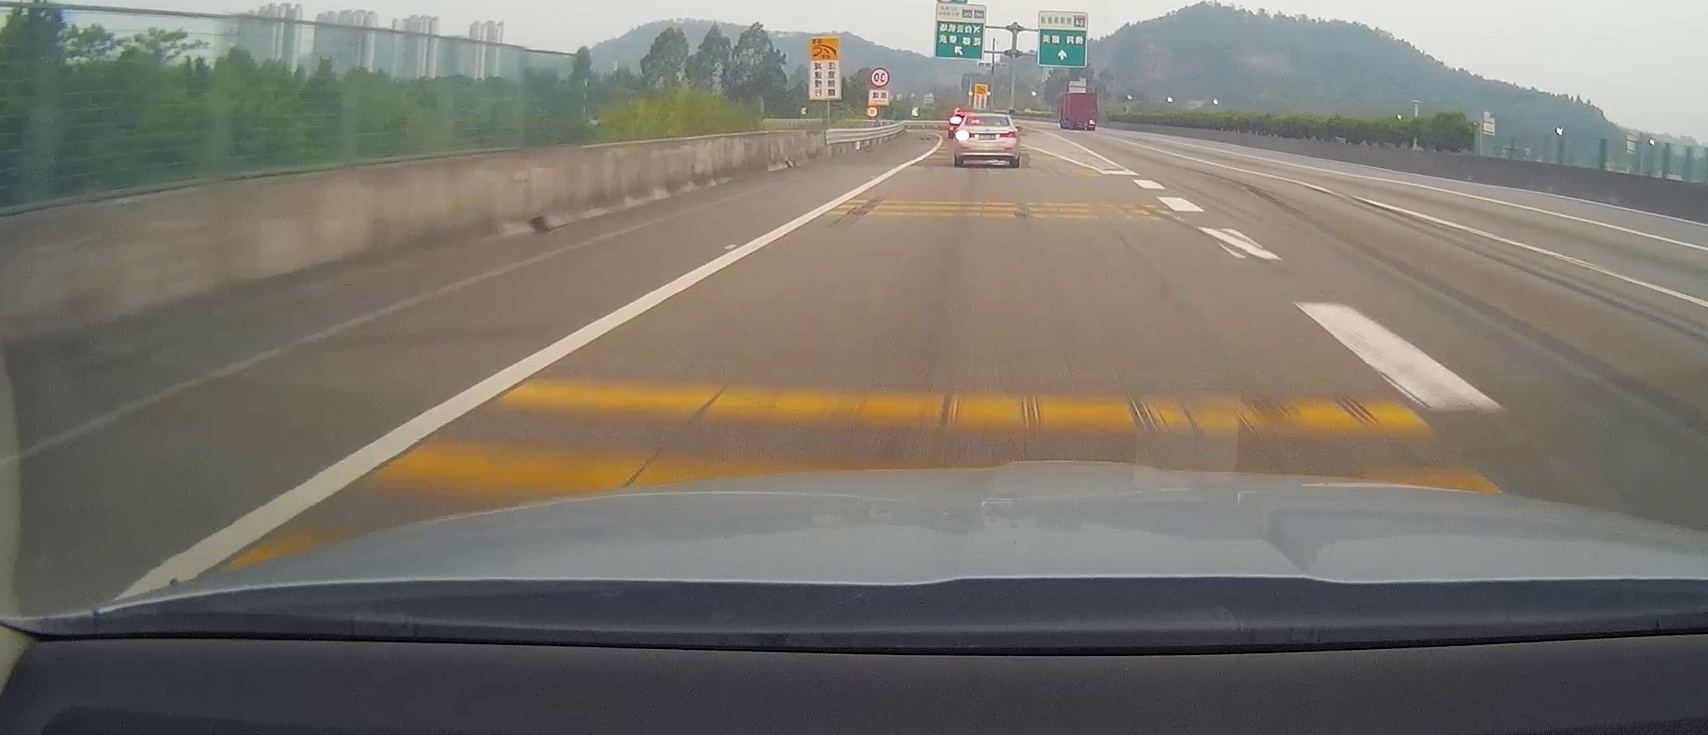L_light: (955, 131, 975, 138), (1063, 118, 1070, 123)
R_light: (1000, 131, 1016, 138), (1088, 119, 1095, 125)
T_light: (1073, 93, 1085, 95), (983, 115, 991, 117)
day-left: (954, 112, 1021, 168)
day-right: (1061, 91, 1097, 131)
